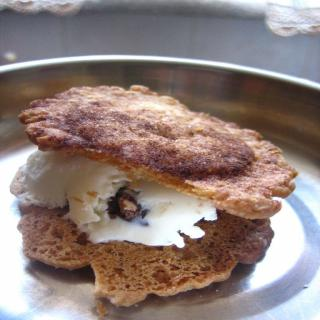Cookie: (10, 84, 300, 306)
